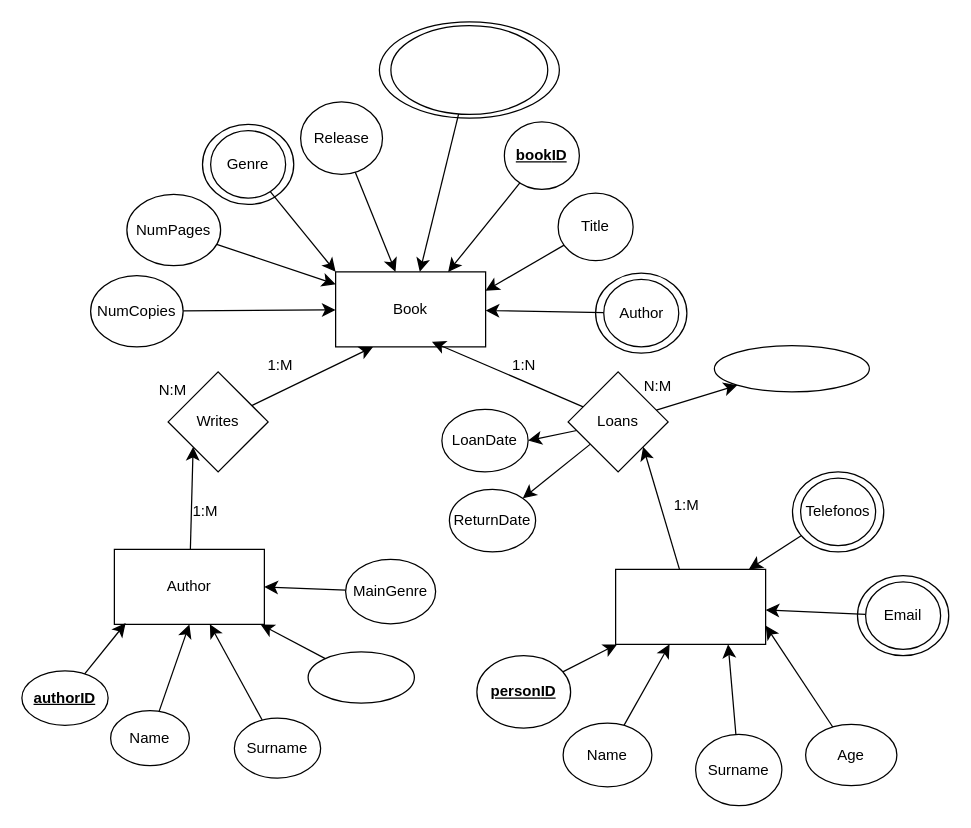
Image size: 971x828. Some labels were removed from this diagram. Each missing label, with the centre of its shape:
"availableLanguages" belongs at pixel 469 69.
"BirthCountry" belongs at pixel 360 677.
"ExpectedReturnDate" belongs at pixel 791 368.
"Person" belongs at pixel 690 606.
